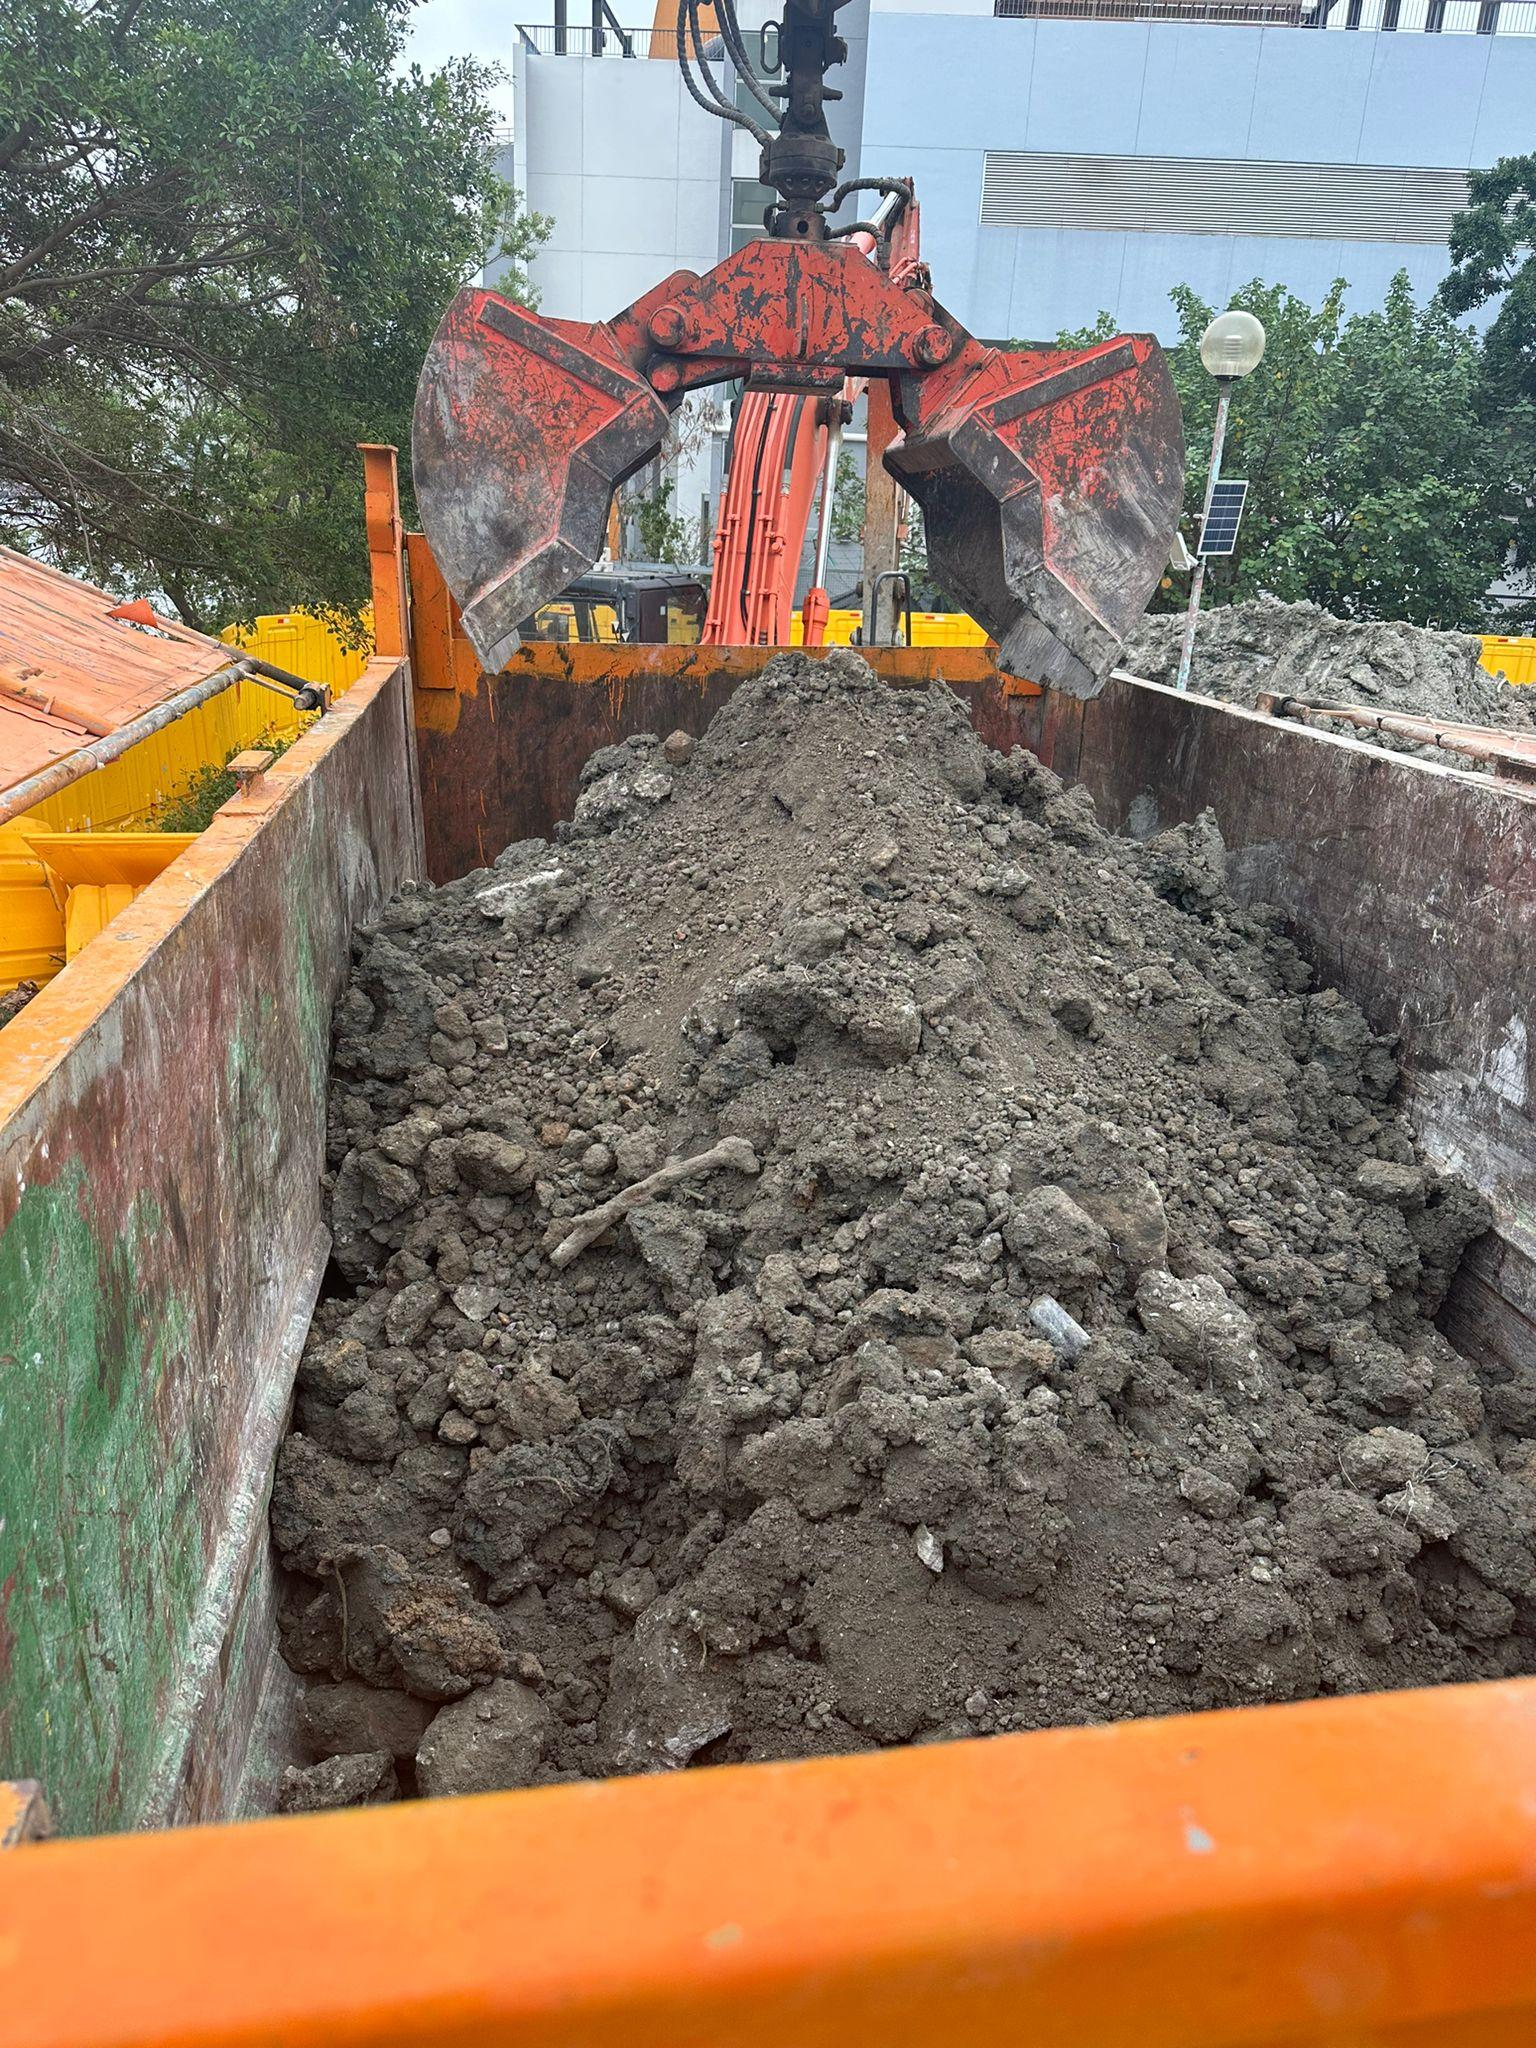wet: (316, 674, 1523, 1763)
